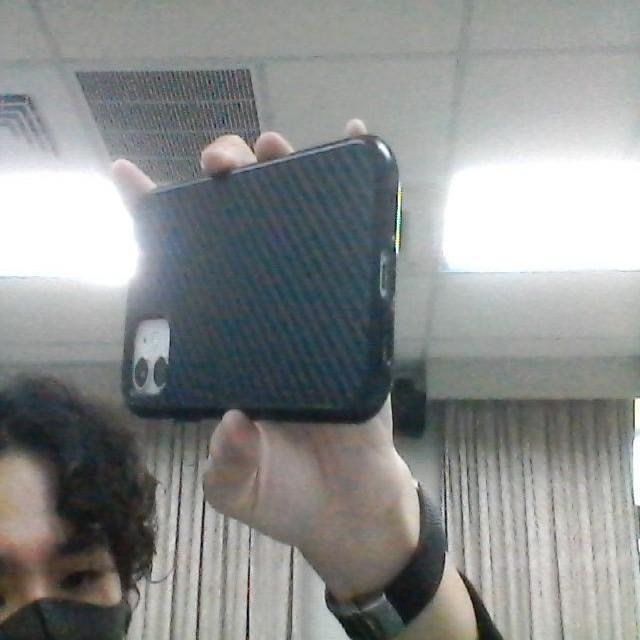Phone: (115, 131, 404, 427)
